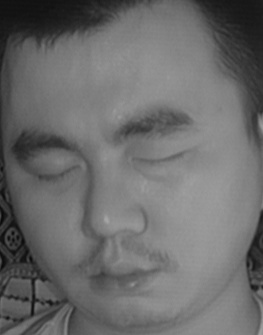blink: (132, 139, 189, 179), (32, 156, 82, 194)
mouth: (79, 247, 161, 300)
